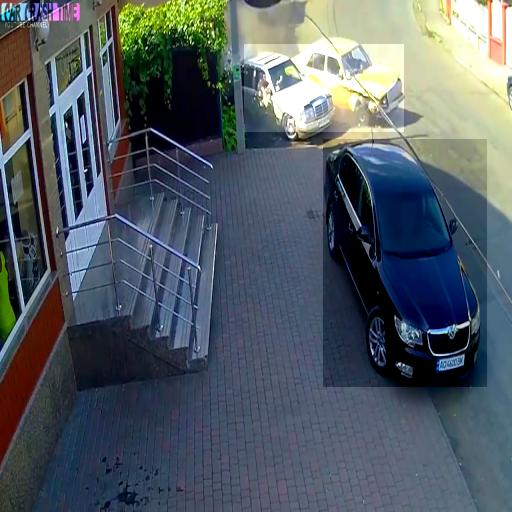小汽车: (323, 140, 487, 388)
小汽车撞小汽车: (244, 44, 404, 132)
